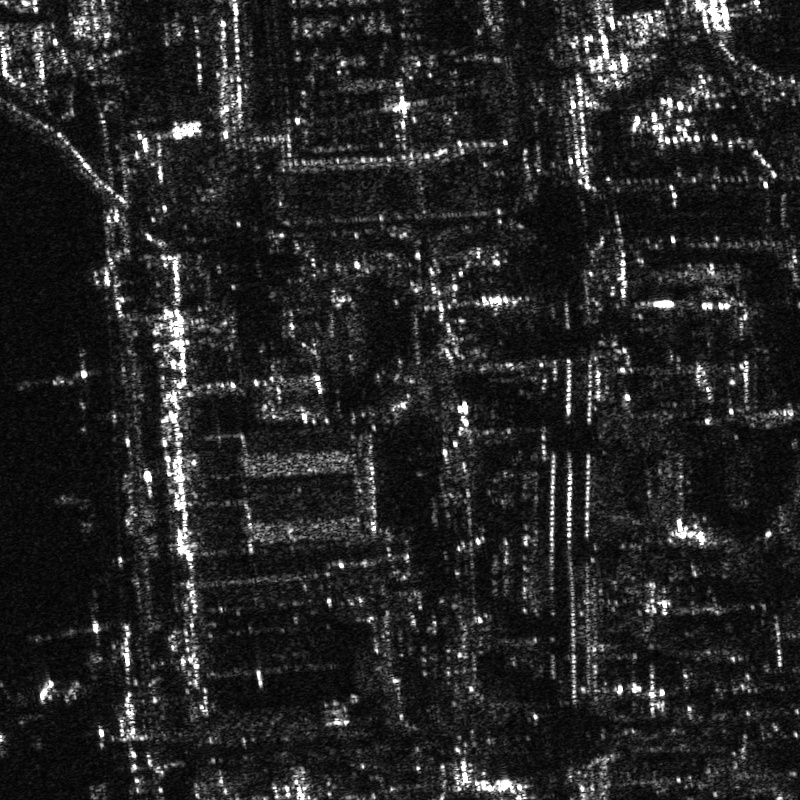A320/321: (29, 591, 118, 658)
other: (11, 334, 113, 431)
